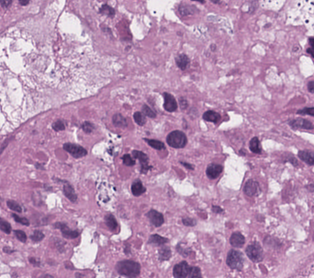nucleus: (54, 222, 79, 238), (132, 150, 149, 172), (166, 130, 186, 147), (63, 143, 86, 157), (146, 209, 163, 226), (163, 92, 177, 111), (63, 182, 76, 202), (244, 179, 259, 196), (206, 163, 222, 178), (144, 138, 164, 149), (202, 110, 220, 122), (175, 54, 189, 69), (131, 180, 145, 195), (148, 234, 167, 245), (178, 4, 196, 15), (112, 113, 126, 127), (230, 232, 244, 246), (105, 214, 117, 230), (12, 214, 29, 225), (99, 4, 114, 16), (249, 137, 260, 153), (142, 104, 155, 117), (7, 200, 21, 212), (133, 112, 145, 125), (14, 229, 26, 242), (30, 230, 44, 241), (0, 218, 10, 233), (81, 121, 94, 132), (122, 154, 134, 165), (52, 120, 64, 130), (182, 217, 195, 225), (181, 162, 193, 169), (179, 98, 187, 108), (212, 205, 222, 213), (1, 1, 11, 6), (19, 0, 28, 5), (213, 1, 220, 3)
